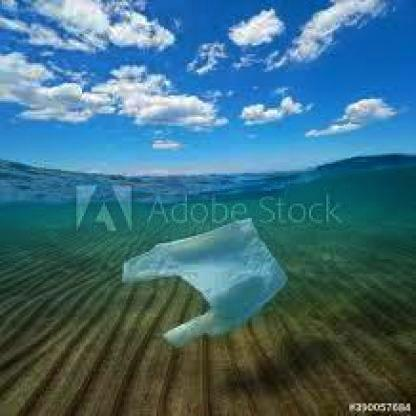pbag: (120, 218, 288, 350)
